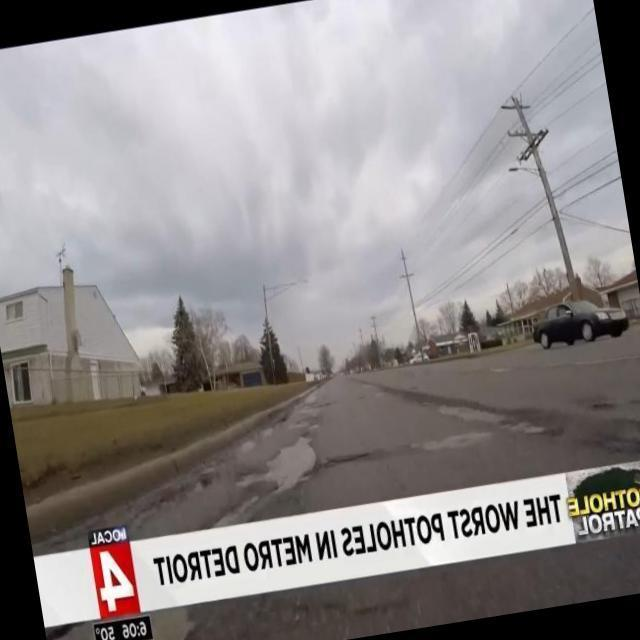Pothole: (238, 445, 313, 513), (452, 400, 536, 442)
